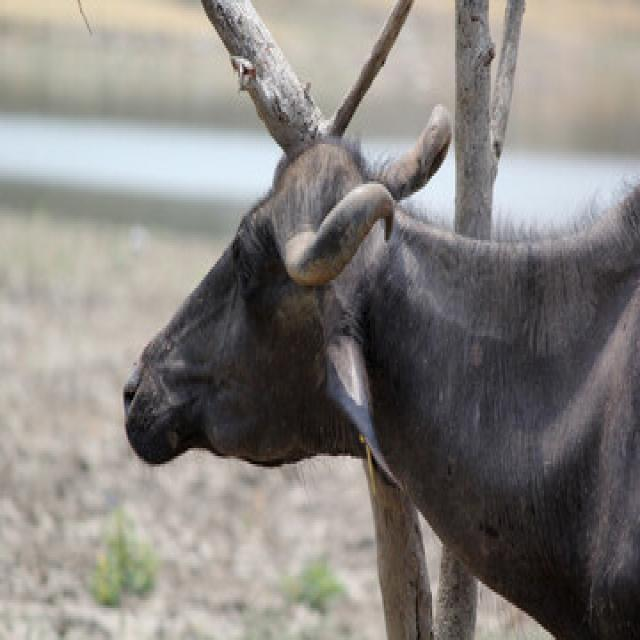Buffalo: (117, 0, 638, 637)
